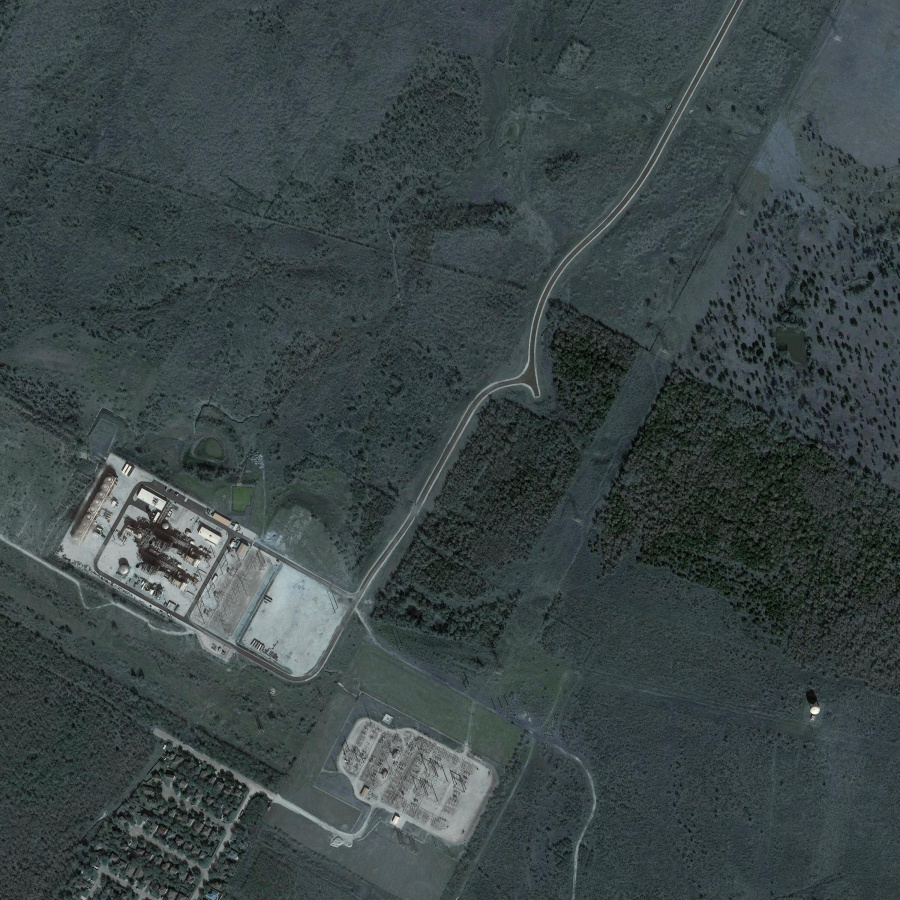PowerPlant: (61, 456, 271, 646), (335, 702, 482, 838)
